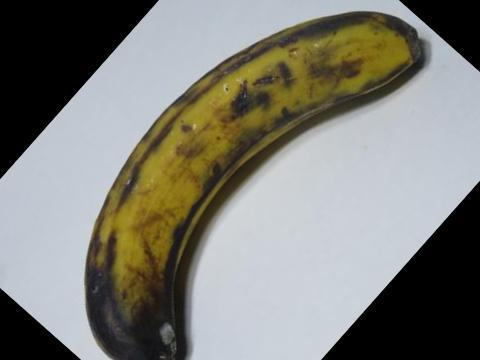overripe: (67, 2, 431, 359)
rotten: (78, 245, 223, 359)
